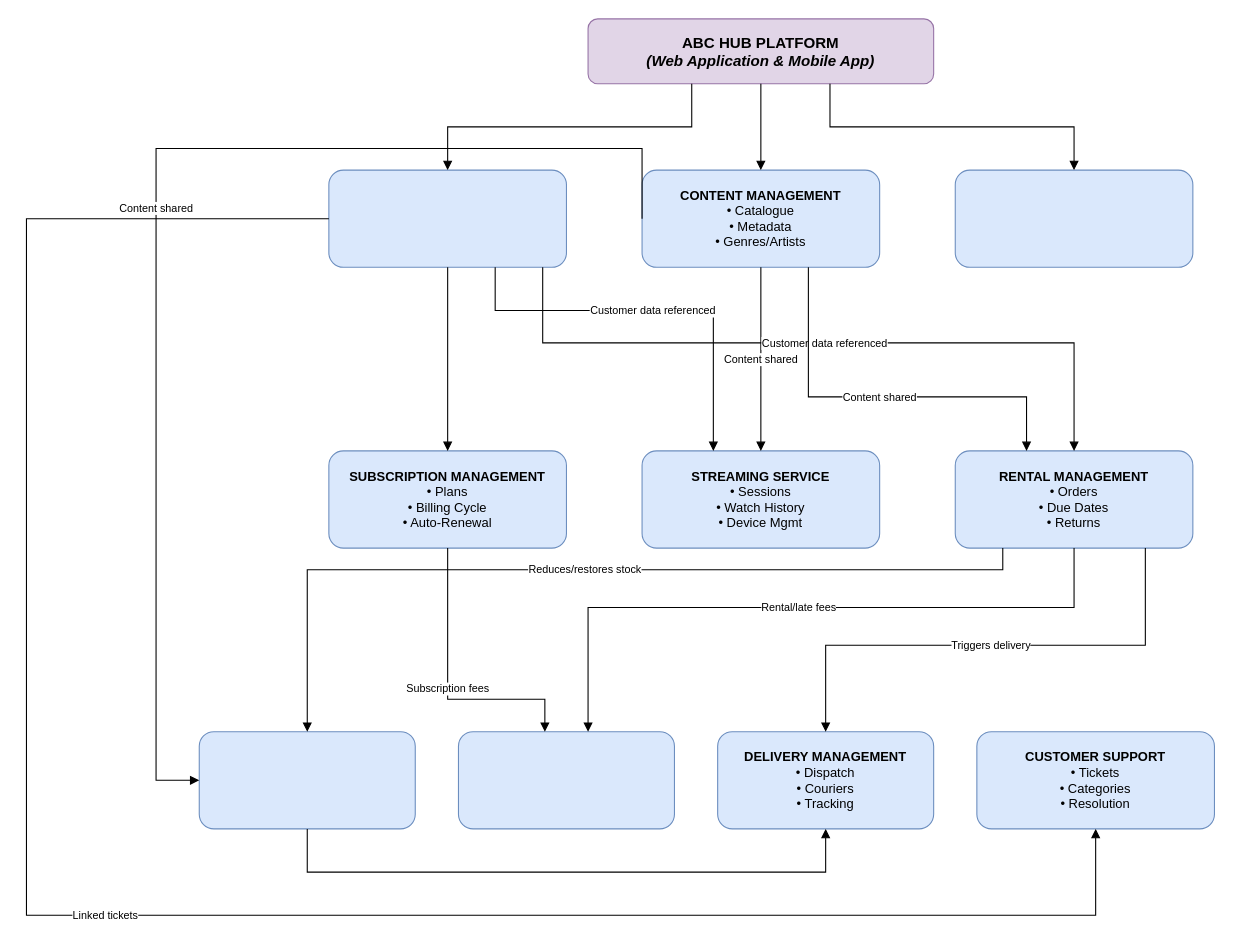
Image size: 1233x943. Some labels were removed from this diagram. The shapes that lost their labels are listed below. From the top down, each one's box as (x1, y1, x2, y2) in pixels, then its label:
(328, 169, 566, 267): CUSTOMER MANAGEMENT • Registration • Profiles • Addresses
(954, 169, 1193, 267): RECOMMENDATION ENGINE • Personalisation • ML Models • Click Tracking
(198, 731, 415, 829): INVENTORY MANAGEMENT • Stock Levels • Warehouses • Item Condition
(457, 731, 674, 829): PAYMENT PROCESSING • Transactions • Methods • Reconciliation
